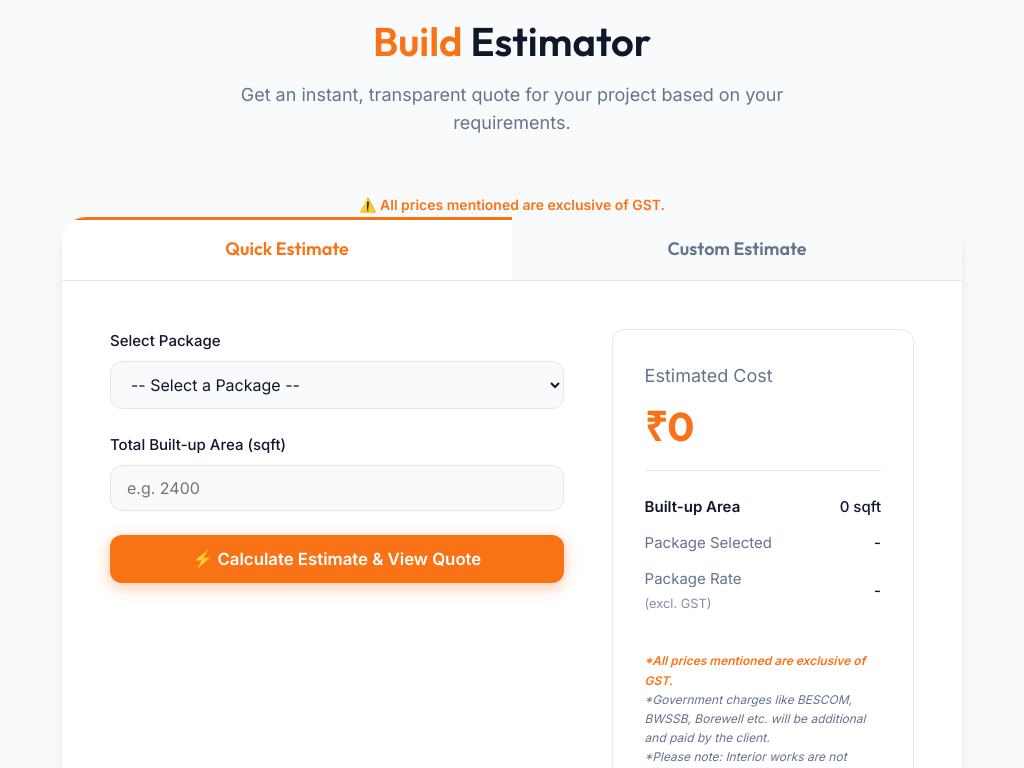
Test: Estimator Component › calculates cost correctly when area and package are provided without crashing
(page scrolled)
Note: Select the package
Select "BZ-1 • CLASSIC HORIZON" in the dropdown. click: (337, 385)
box: [110,361,564,409]
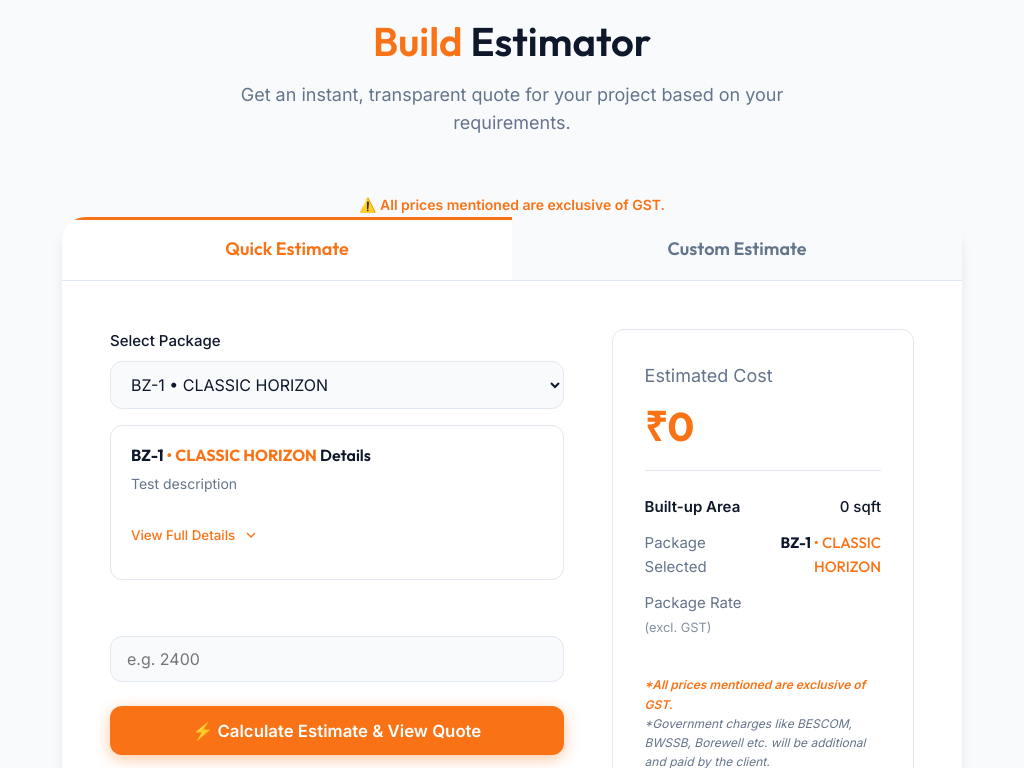
Note: Enter area
Type "1000" into the number field with placeholder "e.g. 2400". click: (337, 659)
box: [110,636,564,682]
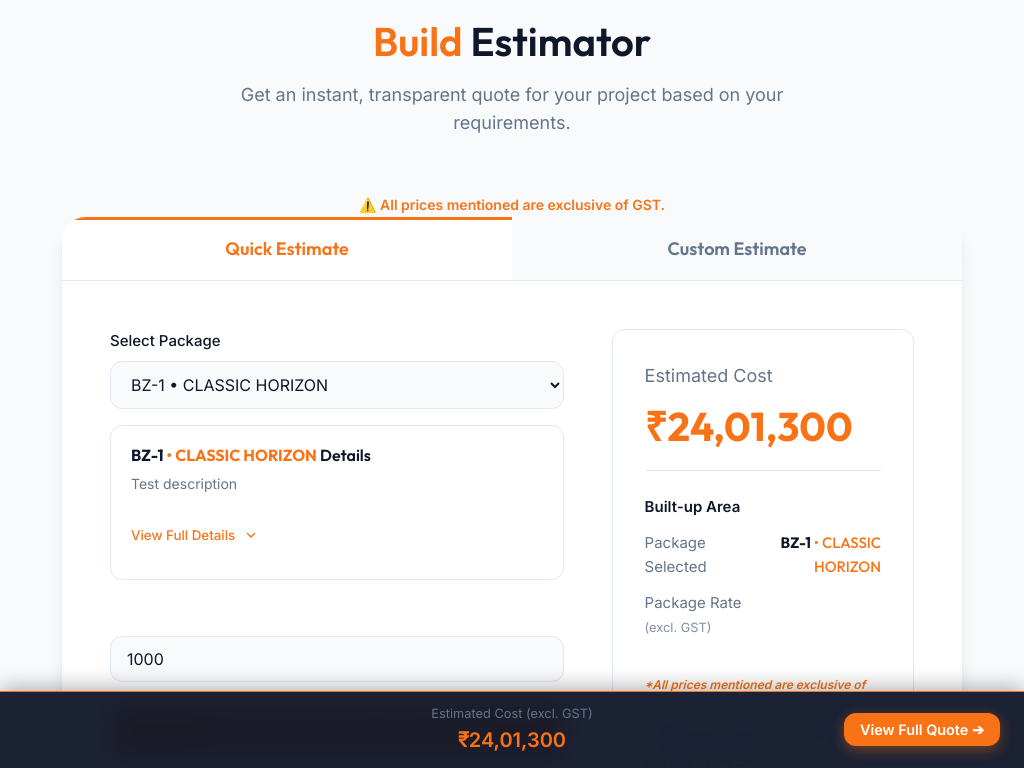
Now the 1st text "₹24,01,300" is shown, box [645,406,881,446]
